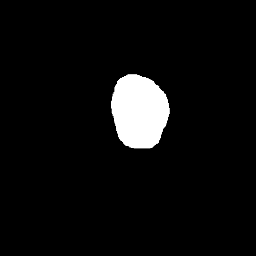mass: (115, 79, 171, 143)
